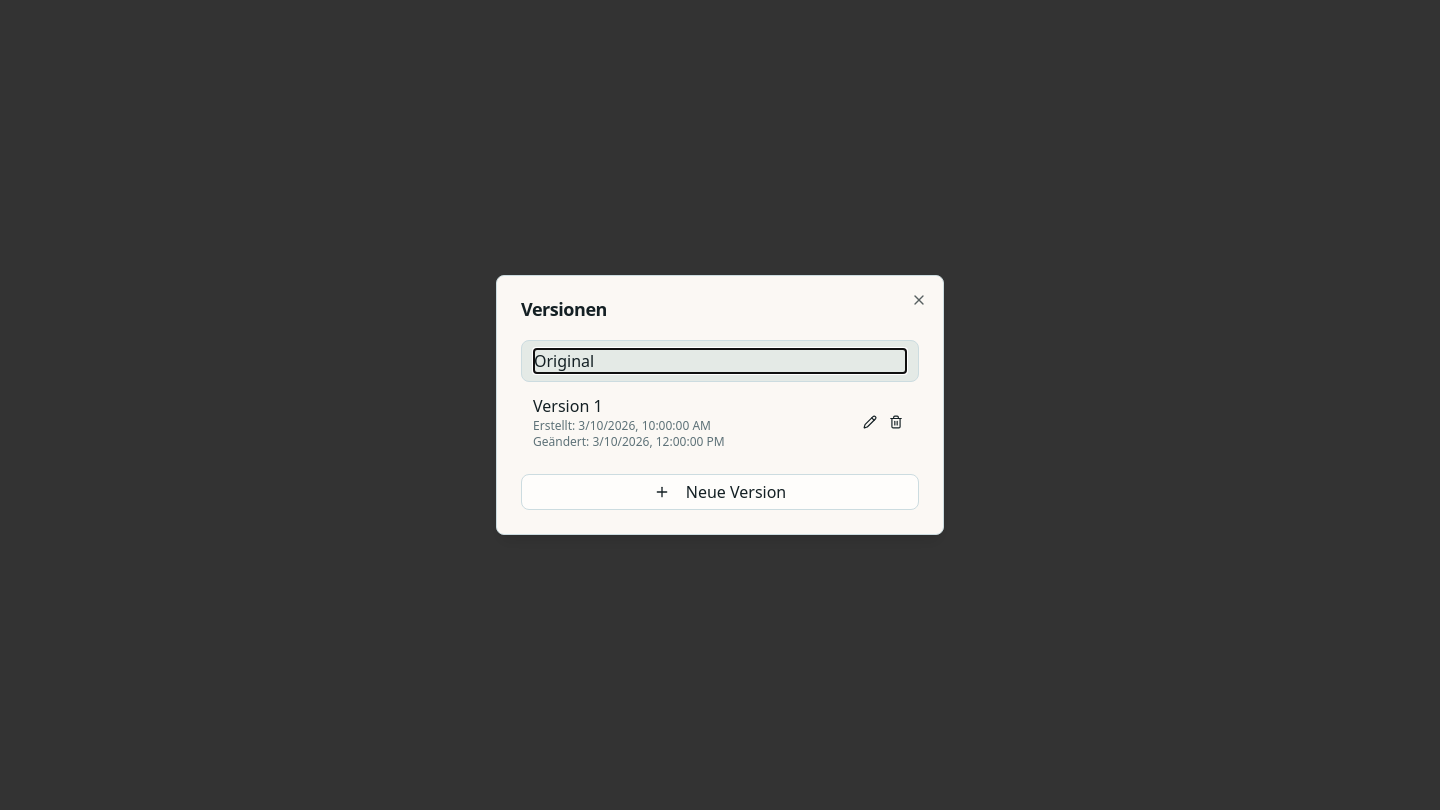
Test: VersionsModal › renaming › shows inline input when clicking rename button
Click the button with test id "rename-snap-1".
click(870, 422)  # box 859,411 -> 881,433
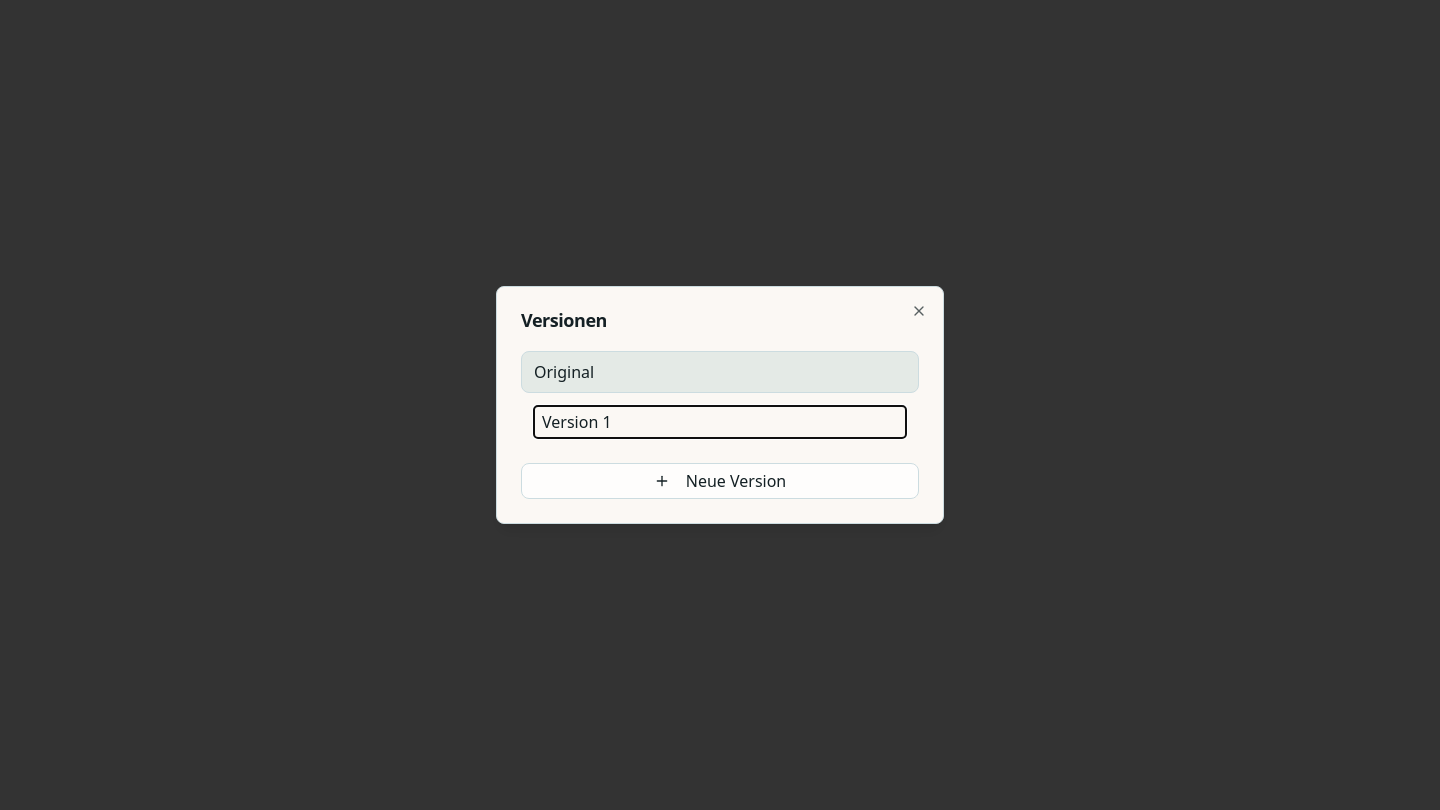
Expected: the field with test id "rename-input-snap-1" is shown, 533,405 -> 907,439
